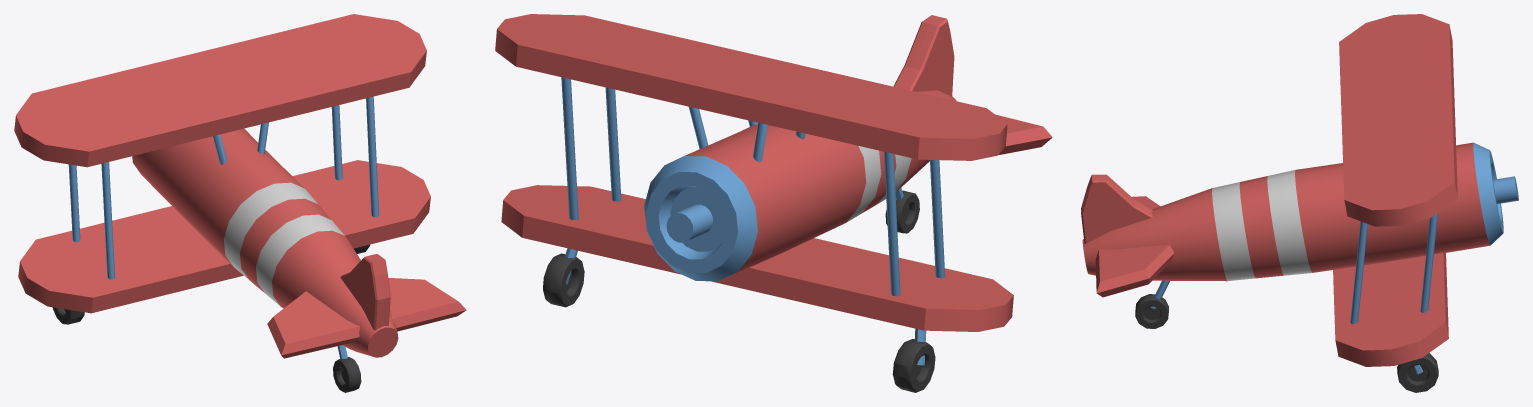
File: Airplane.fbx
3 renders of one model, left to right at view 1: azimuth 30°, elevation 25°; view 2: azimuth 150°, elevation 25°; view 3: azimuth 270°, elevation 25°, orthographic. The views are drawn at different scales.
Visible parts, largest first — view 1: PlaneWingUp, PlaneBody, PlaneWingDown, Tail, TailTop.001, Support.001, Support, Cylinder.007, Support.003, Cylinder.008; view 2: PlaneWingUp, PlaneBody, PlaneWingDown, Cylinder.008, TailTop.001, Support, Support.001, Tail, Cylinder.007, Support.002; view 3: PlaneBody, PlaneWingUp, PlaneWingDown, Tail, TailTop.001, Cylinder.008, Cylinder.007, Support.001, Support.
Part boxes in pixels (x1,y1,x2,y2): PlaneWingUp: (14, 14, 426, 167); PlaneBody: (132, 128, 398, 357); PlaneWingDown: (18, 160, 430, 313); Tail: (267, 278, 466, 358); TailTop.001: (340, 254, 390, 330); Support.001: (101, 96, 378, 279); Support: (68, 105, 342, 242); Cylinder.007: (333, 357, 361, 392); Support.003: (213, 122, 268, 164); Cylinder.008: (52, 244, 370, 324); PlaneWingUp: (495, 14, 1007, 160); PlaneBody: (644, 87, 956, 281); PlaneWingDown: (501, 185, 1013, 331); Cylinder.008: (543, 253, 935, 392); TailTop.001: (893, 15, 954, 96); Support: (561, 77, 900, 296); Support.001: (605, 87, 945, 278); Tail: (995, 114, 1052, 154); Cylinder.007: (885, 190, 919, 233); Support.002: (689, 106, 767, 162); PlaneBody: (1082, 142, 1518, 281); PlaneWingUp: (1339, 14, 1457, 226); PlaneWingDown: (1333, 253, 1448, 366); Tail: (1095, 196, 1174, 297); TailTop.001: (1081, 174, 1152, 243); Cylinder.008: (1397, 353, 1438, 392); Cylinder.007: (1135, 294, 1168, 328); Support.001: (1350, 221, 1367, 324); Support: (1420, 213, 1437, 312).
Bounding box in the file's own units: 493 × 267 × 474.
